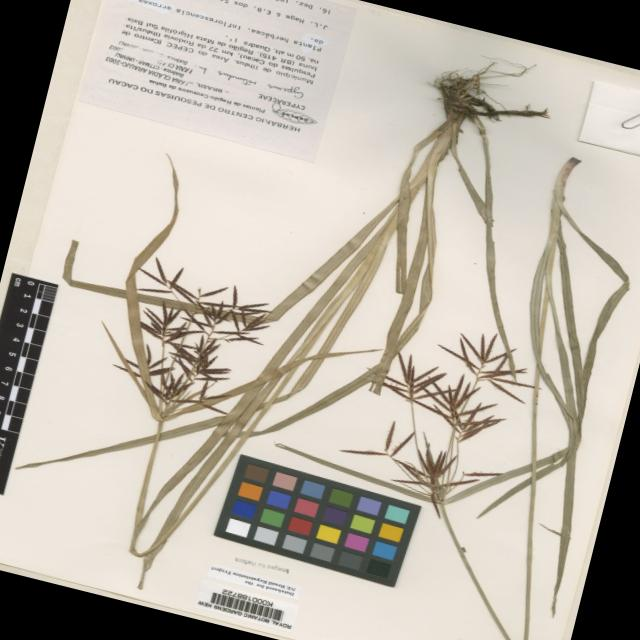cyperus: (334, 304, 553, 518), (100, 246, 279, 432)
